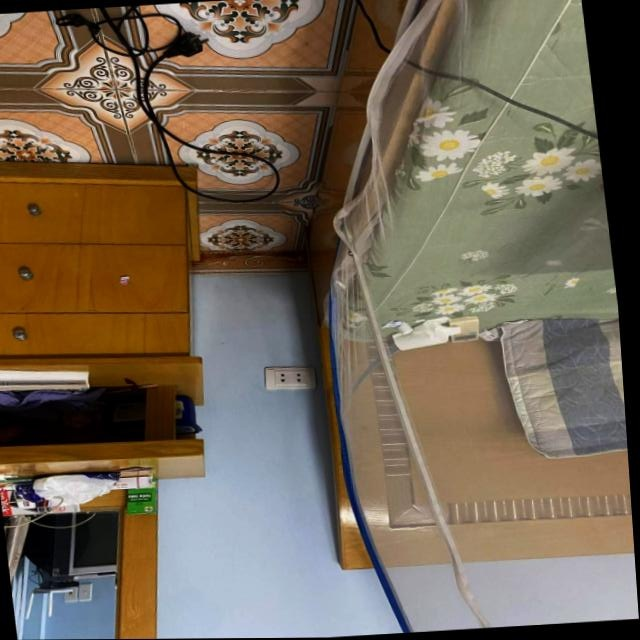outlet: (263, 365, 317, 393)
